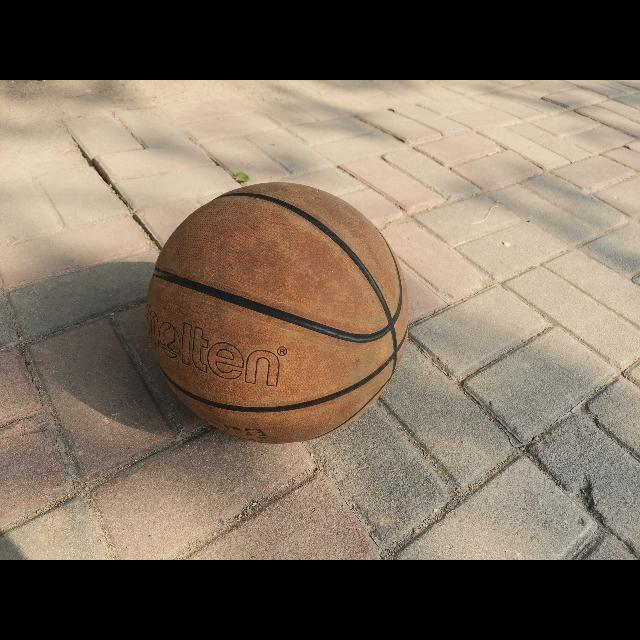basketball: (148, 182, 408, 442)
